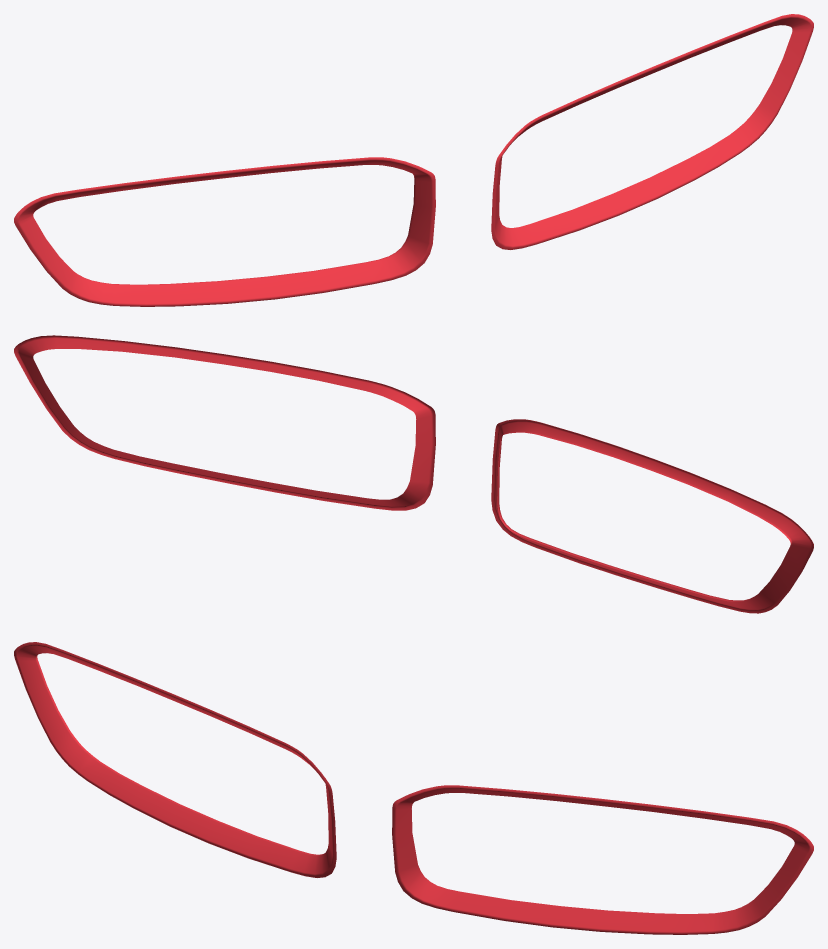
File: b_Kit1_Coloured_Geo_lodA_Kit1_Co_09.glb
3 renders of one model, top to bottom at view 1: azimuth 30°, elevation 25°; view 2: azimuth 150°, elevation 25°; view 3: azimuth 330°, elevation 25°, orthographic.
Visible parts, largest first — view 1: b:Kit1_Coloured_Geo_lodA_Kit1_Coloured_Geo_lodA_BMW_i8Elite_; view 2: b:Kit1_Coloured_Geo_lodA_Kit1_Coloured_Geo_lodA_BMW_i8Elite_; view 3: b:Kit1_Coloured_Geo_lodA_Kit1_Coloured_Geo_lodA_BMW_i8Elite_.
Boxes of the visible parts, bbox=[...] form: b:Kit1_Coloured_Geo_lodA_Kit1_Coloured_Geo_lodA_BMW_i8Elite_: bbox=[14, 14, 813, 306]; b:Kit1_Coloured_Geo_lodA_Kit1_Coloured_Geo_lodA_BMW_i8Elite_: bbox=[14, 335, 813, 613]; b:Kit1_Coloured_Geo_lodA_Kit1_Coloured_Geo_lodA_BMW_i8Elite_: bbox=[14, 642, 813, 934].
Bounding box in the file's own units: 0.8098 × 0.1306 × 0.0961.
